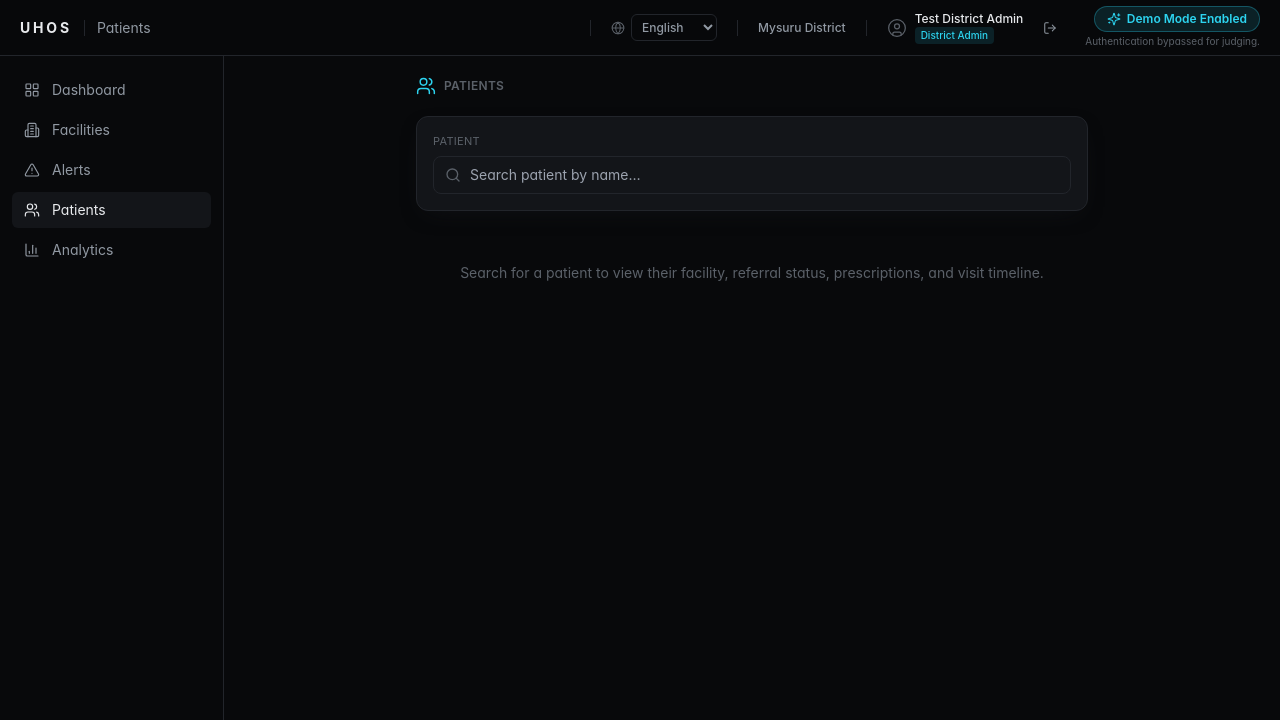
it: Patients page › looks up a patient and shows their facility, referral status, and timeline
In the field with placeholder "Search patient by name…": (752, 174) [433, 156, 1071, 194], type "Asha"
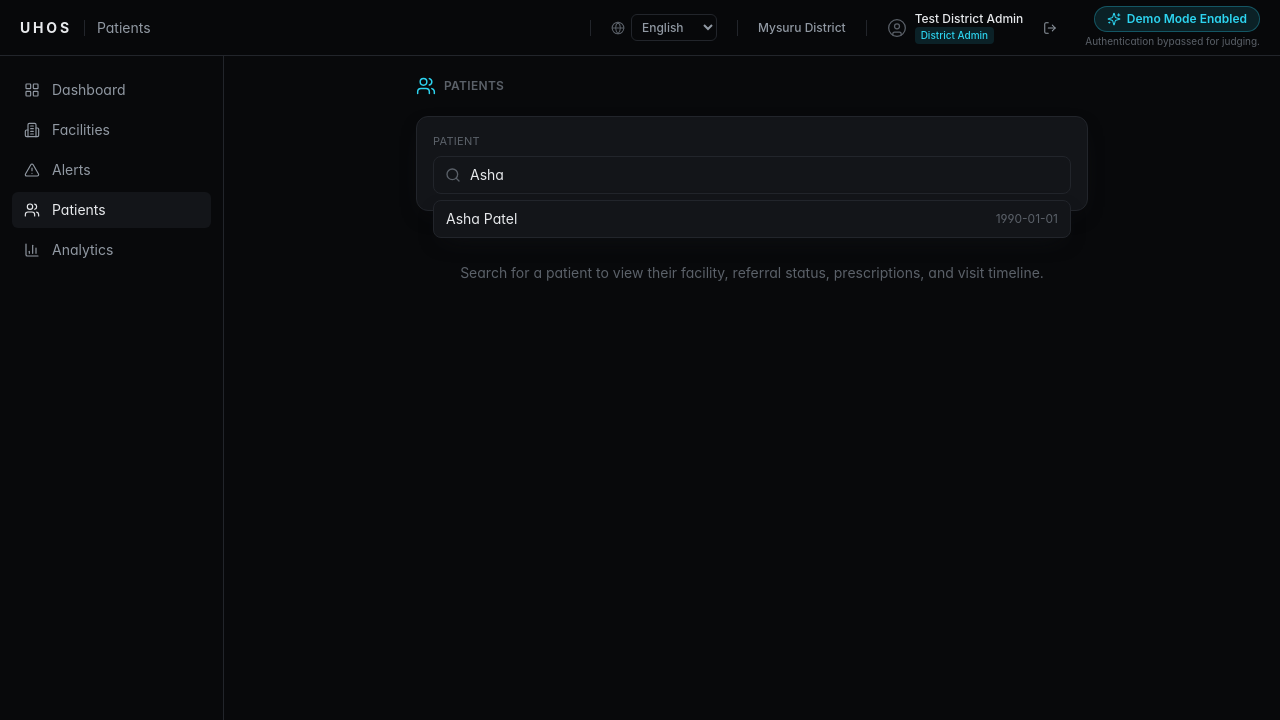
Check: the text "Asha Patel" is shown
Click the text "Asha Patel": (482, 218) [446, 208, 517, 228]
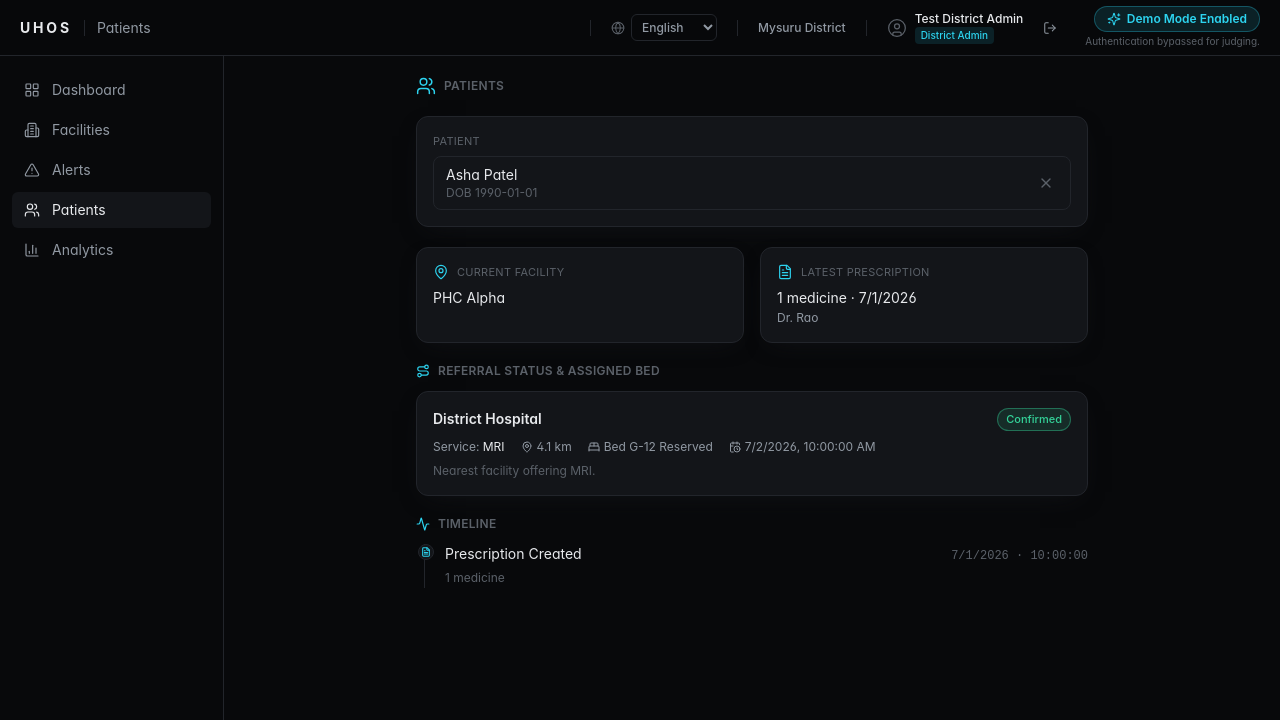
Check: the text "PHC Alpha" is shown, box [433, 289, 505, 306]
Check: the text "District Hospital" is shown, box [433, 409, 542, 429]
Check: the text "Bed G-12 Reserved" is shown, box [588, 438, 713, 454]
